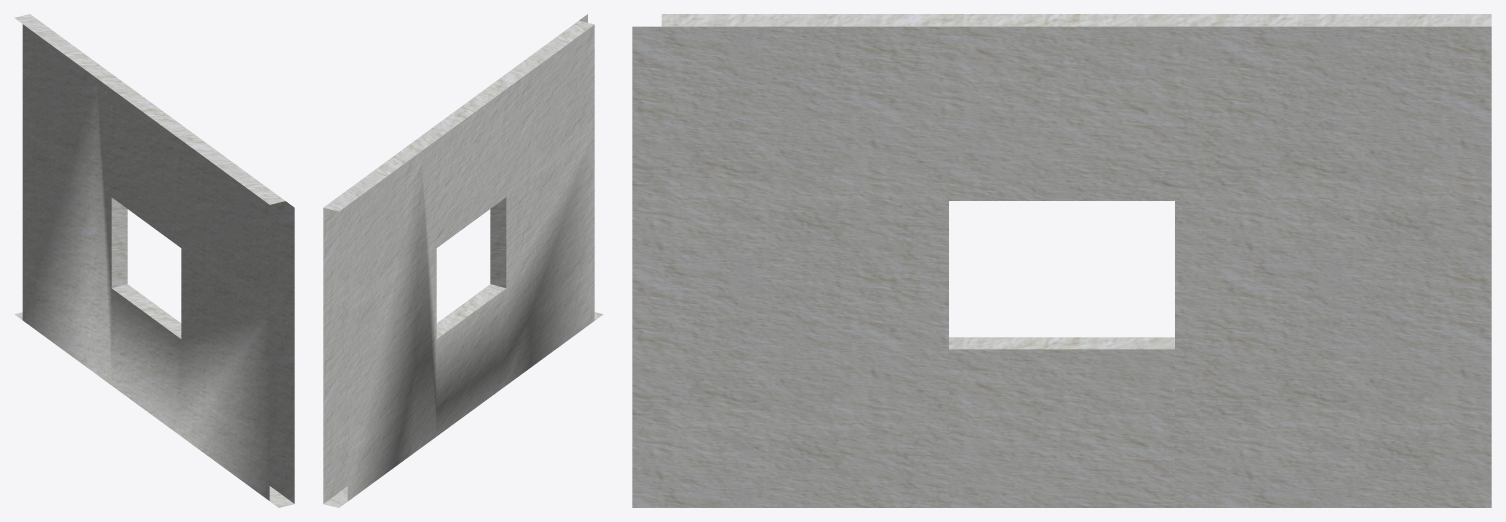
File: wall_01.obj
The picture shows the model from 3 angles, left to right: view 1: azimuth 30°, elevation 25°; view 2: azimuth 150°, elevation 25°; view 3: azimuth 270°, elevation 25°; orthographic projection. The views are drawn at different scales.
Visible parts, largest first — view 1: Cube.001; view 2: Cube.001; view 3: Cube.001.
Boxes of the visible parts, x1=… form: Cube.001: x1=14, y1=14, x2=294, y2=507; Cube.001: x1=323, y1=14, x2=603, y2=507; Cube.001: x1=632, y1=14, x2=1491, y2=507.
Size of the model in its own units: 0.2873 by 5.13 by 8.3.
1 material, 1 textured.
